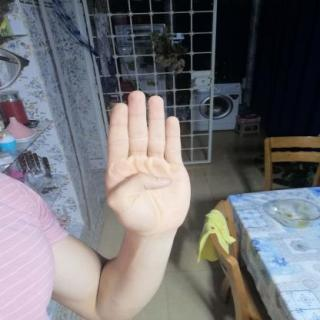KAAF: (96, 83, 202, 242)
